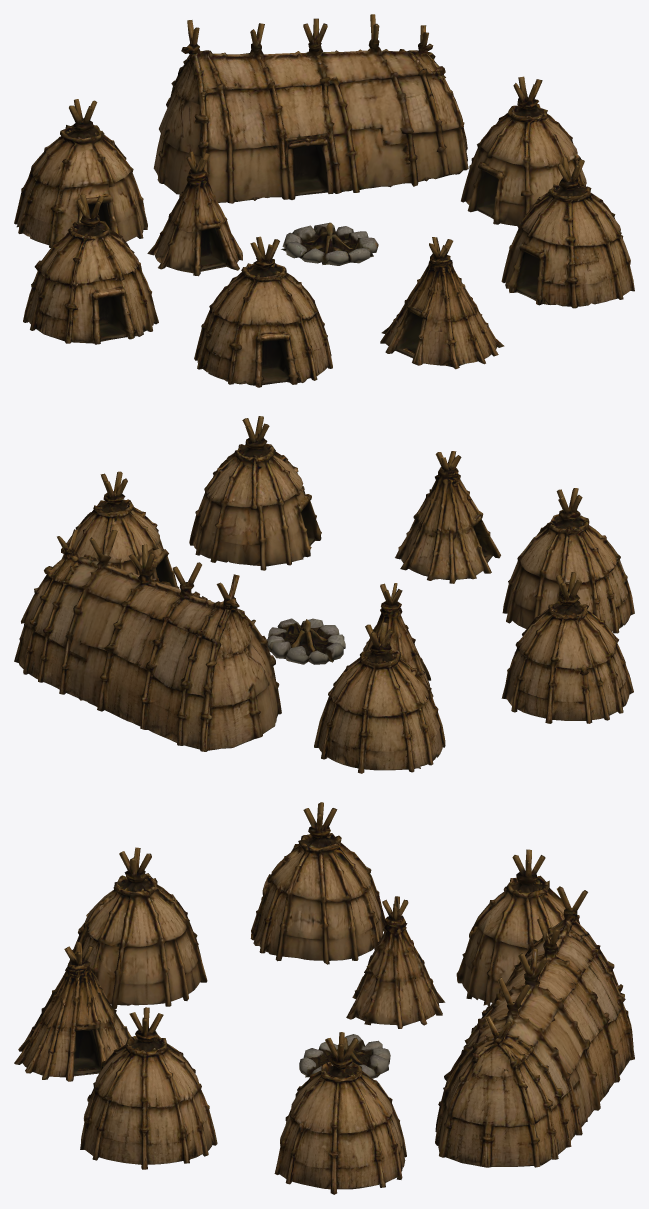
File: Prehistoric Village (North American Native).fbx
The picture shows the model from 3 angles, top to bottom: view 1: azimuth 30°, elevation 25°; view 2: azimuth 150°, elevation 25°; view 3: azimuth 270°, elevation 25°; orthographic projection. The views are drawn at different scales.
Parts seen in each view (by area): view 1: tripo_node_f64047cb; view 2: tripo_node_f64047cb; view 3: tripo_node_f64047cb.
Boxes of the visible parts, bbox=[...] form: tripo_node_f64047cb: bbox=[14, 14, 634, 387]; tripo_node_f64047cb: bbox=[14, 416, 634, 773]; tripo_node_f64047cb: bbox=[14, 802, 634, 1194].
Bounding box in the file's own units: 1 × 0.2628 × 0.9091.
